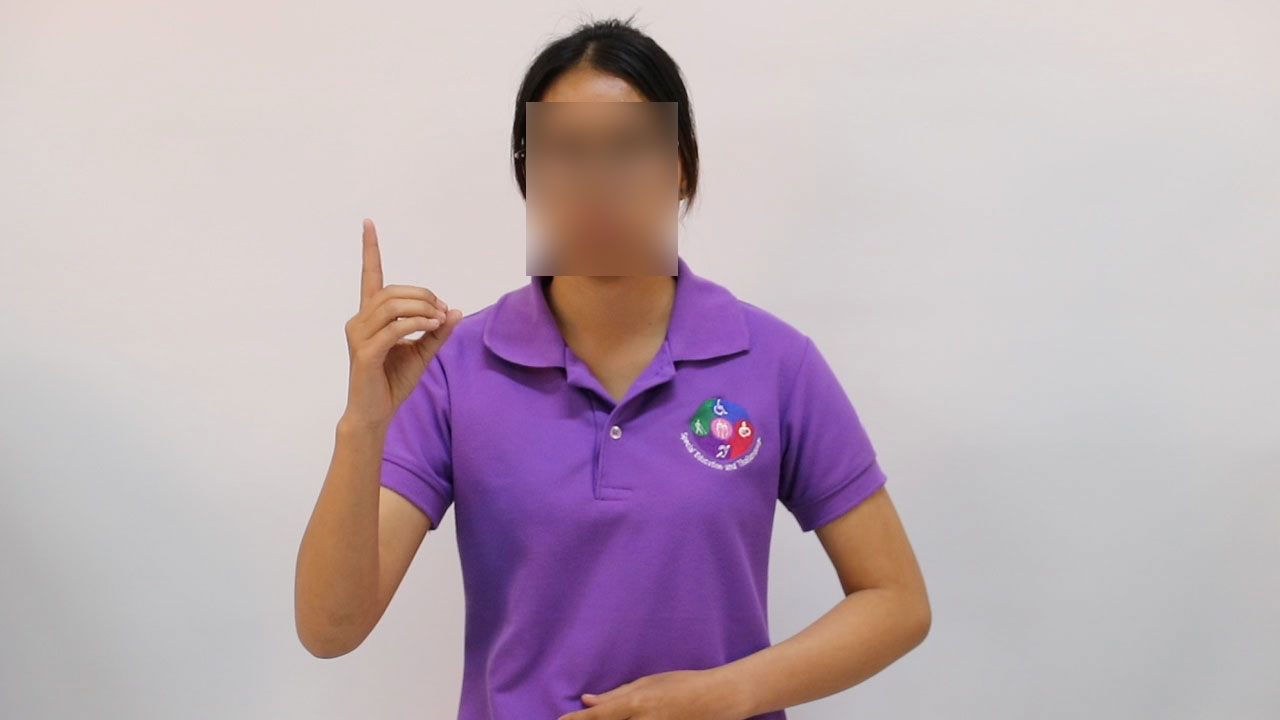dor: (330, 208, 472, 429)
